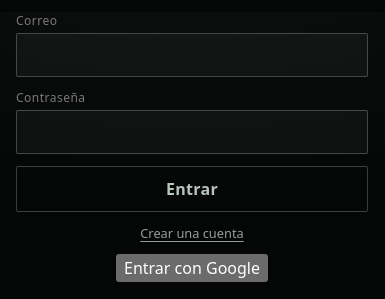
Test: AccountPanel › entra con el identificador que le devuelve Google
Click the button "Entrar con Google": (192, 268) [116, 254, 268, 282]
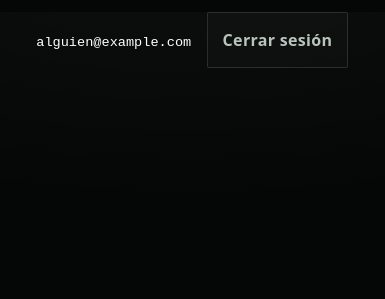
Check: the text "alguien@example.com" is shown, box [36, 35, 191, 50]
